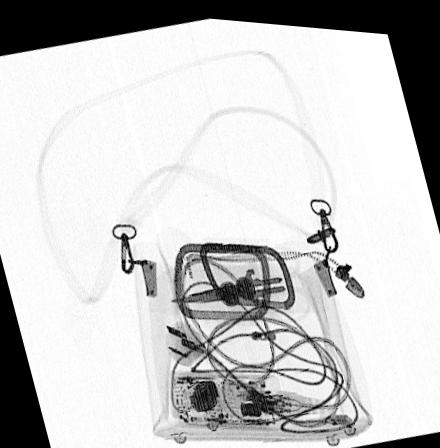Scissors: (165, 236, 314, 320)
